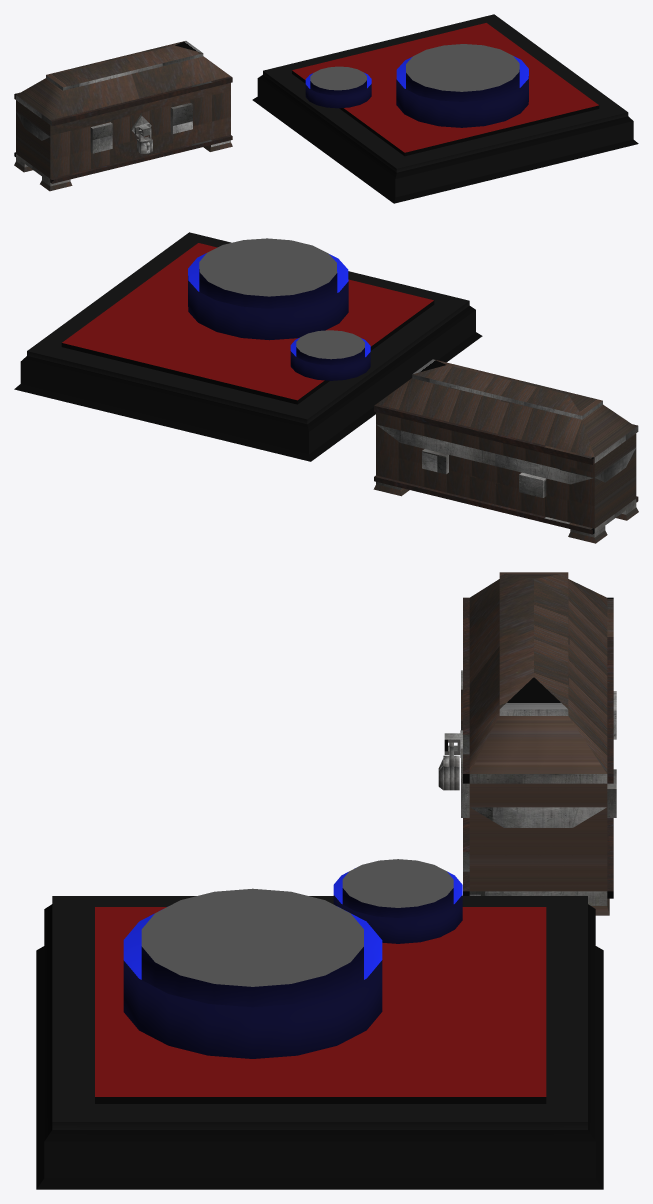
File: Chest.FBX
3 views of the same model, one above another, from view 1: azimuth 30°, elevation 25°; view 2: azimuth 150°, elevation 25°; view 3: azimuth 270°, elevation 25° (orthographic). The views are drawn at different scales.
Visible parts, largest first — view 1: Plauqe, Box002, Cylinder002, Cylinder001, Box003; view 2: Plauqe, Box002, Cylinder002, Cylinder001; view 3: Plauqe, Box002, Cylinder002, Cylinder001.
Boxes of the visible parts, x1,y1,x2,y2 form: Plauqe: [252, 14, 638, 203]; Box002: [14, 41, 232, 191]; Cylinder002: [396, 44, 528, 127]; Cylinder001: [305, 66, 371, 108]; Box003: [137, 127, 152, 153]; Plauqe: [14, 232, 482, 461]; Box002: [373, 359, 638, 543]; Cylinder002: [188, 238, 348, 340]; Cylinder001: [290, 330, 370, 380]; Plauqe: [36, 896, 603, 1189]; Box002: [444, 572, 616, 915]; Cylinder002: [123, 888, 382, 1058]; Cylinder001: [333, 859, 462, 943].
Bounding box in the file's own units: 6.35 × 1.25 × 3.31.
Materials: 10 (4 with a texture image).
